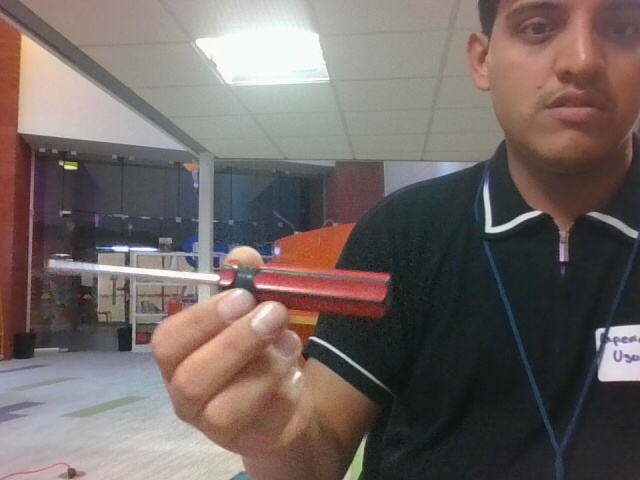destornillador: (49, 256, 393, 321)
